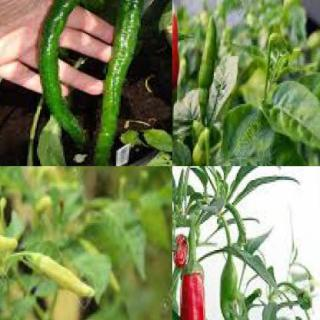green_chilli: (87, 0, 152, 165), (40, 0, 101, 152), (26, 248, 96, 300), (197, 14, 219, 100), (218, 256, 245, 320), (0, 201, 19, 257)
